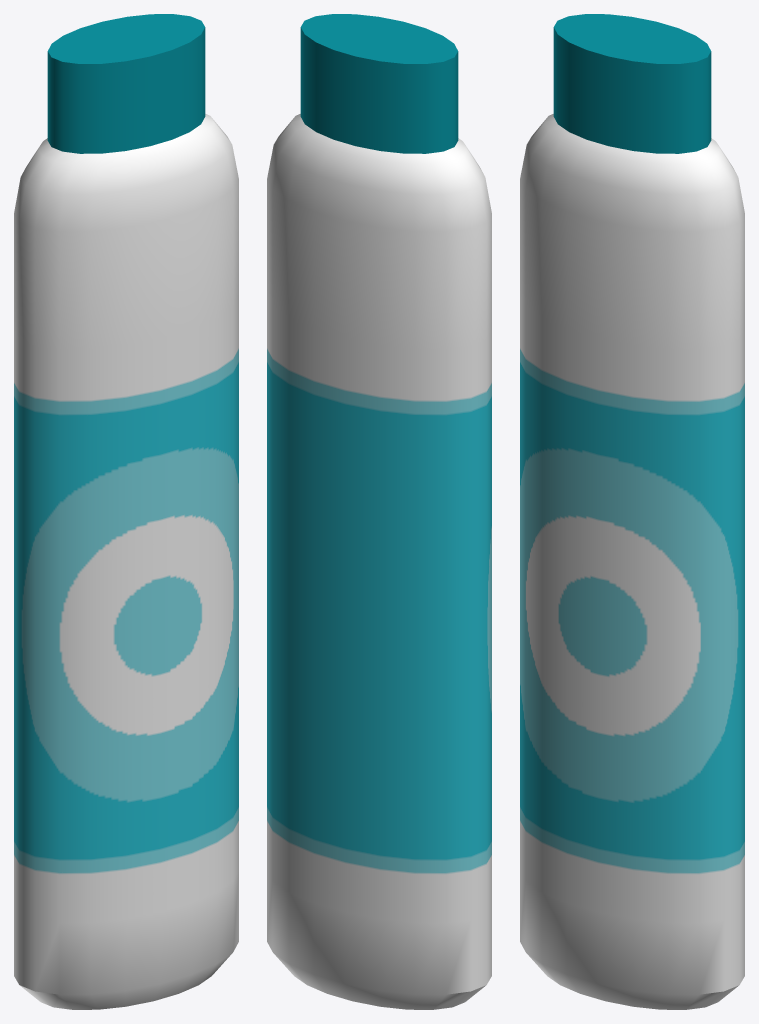
Rendered from Toothpaste.fbx.
3 views of the same model, side by side, from view 1: azimuth 30°, elevation 25°; view 2: azimuth 150°, elevation 25°; view 3: azimuth 330°, elevation 25° (orthographic).
Parts seen in each view (by area): view 1: Toothpaste; view 2: Toothpaste; view 3: Toothpaste.
Boxes of the visible parts, <box> form: Toothpaste: <box>14,14,238,1009</box>; Toothpaste: <box>267,14,491,1009</box>; Toothpaste: <box>520,14,744,1009</box>.
Size of the model in its own units: 0.04 by 0.168 by 0.022.
Materials: 3 (1 with a texture image).
